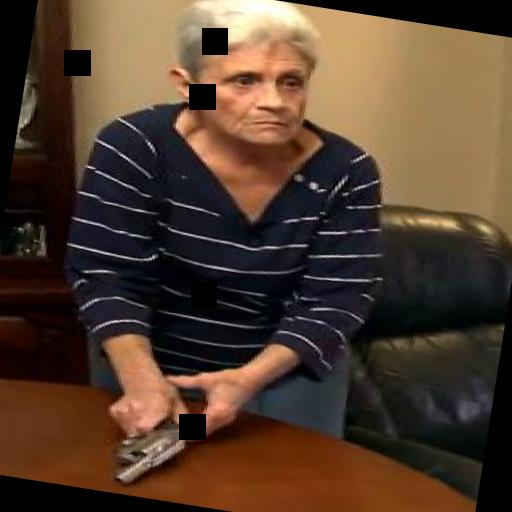Handgun: (91, 402, 197, 494)
